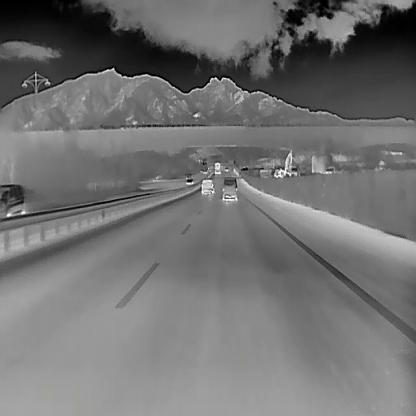car: (0, 183, 25, 218), (221, 177, 238, 201), (200, 178, 214, 195), (185, 176, 193, 186), (223, 166, 228, 172), (186, 173, 191, 179), (203, 170, 207, 174), (200, 168, 202, 172)
truck: (212, 162, 222, 174)
